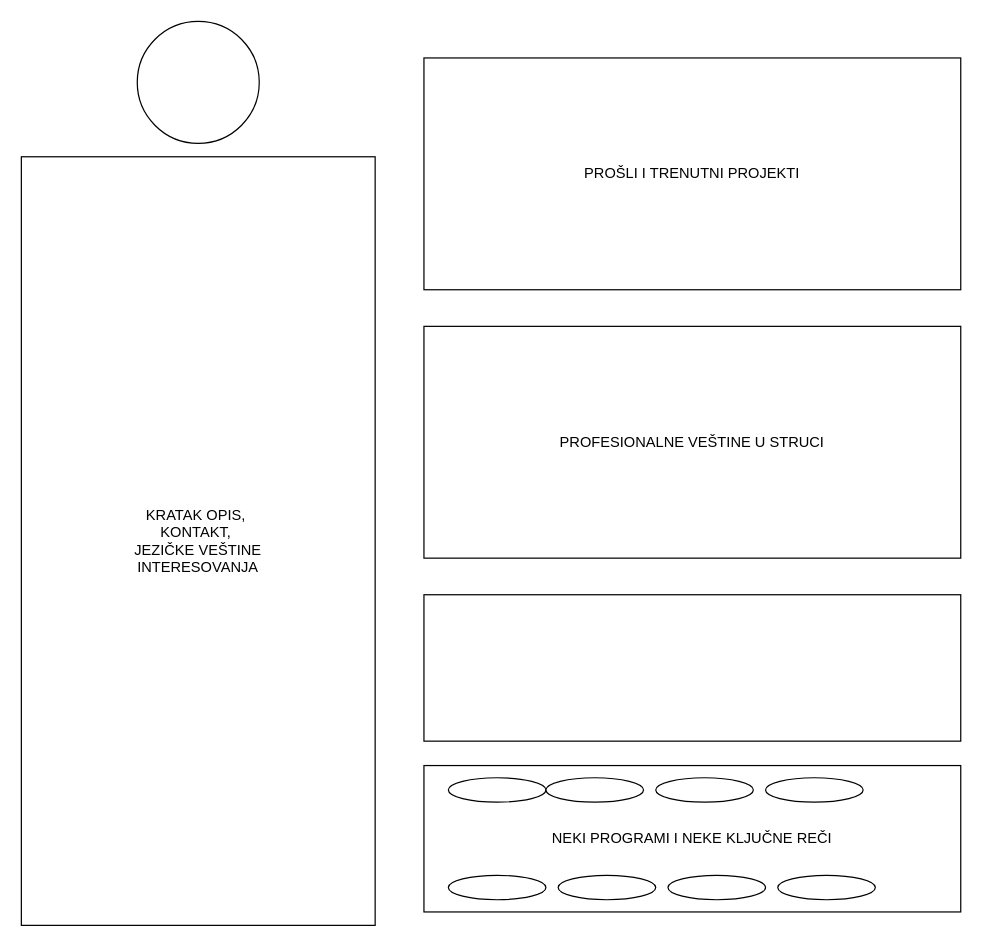
Image size: 982x947. Some labels were removed from this diagram. The shapes that lost their labels are listed below. From the top down, each one's centre as x and y in pixels, then its label:
At point 197,81: "PROFILNA".
At point 692,667: "NFORMALNE OBUKE I KURSEVI".
